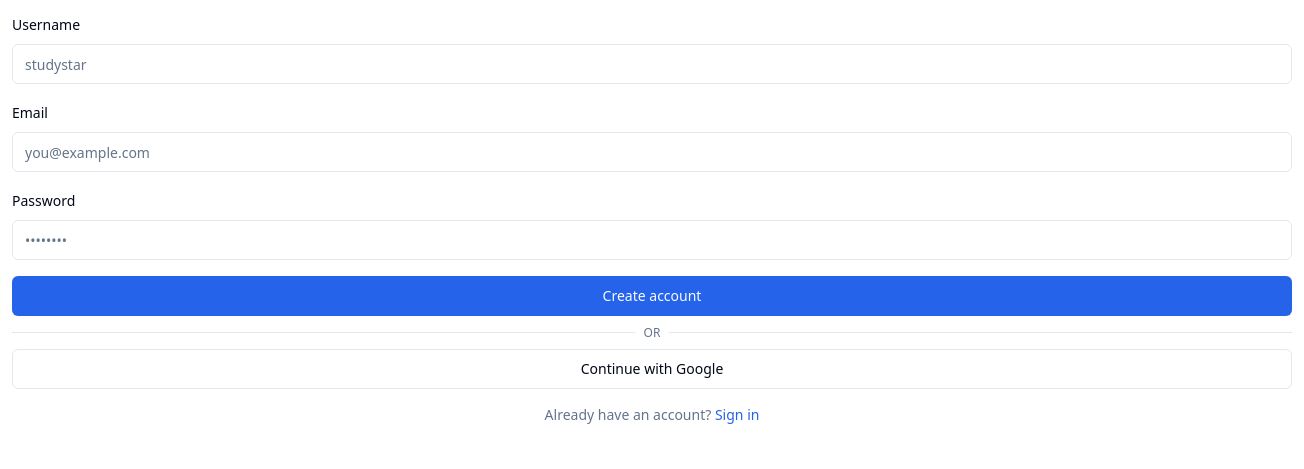
Test case: RegisterForm › shows error for password without digits
Type "validuser" into the field with placeholder "studystar" at x=652, y=64, box [12, 44, 1292, 84]
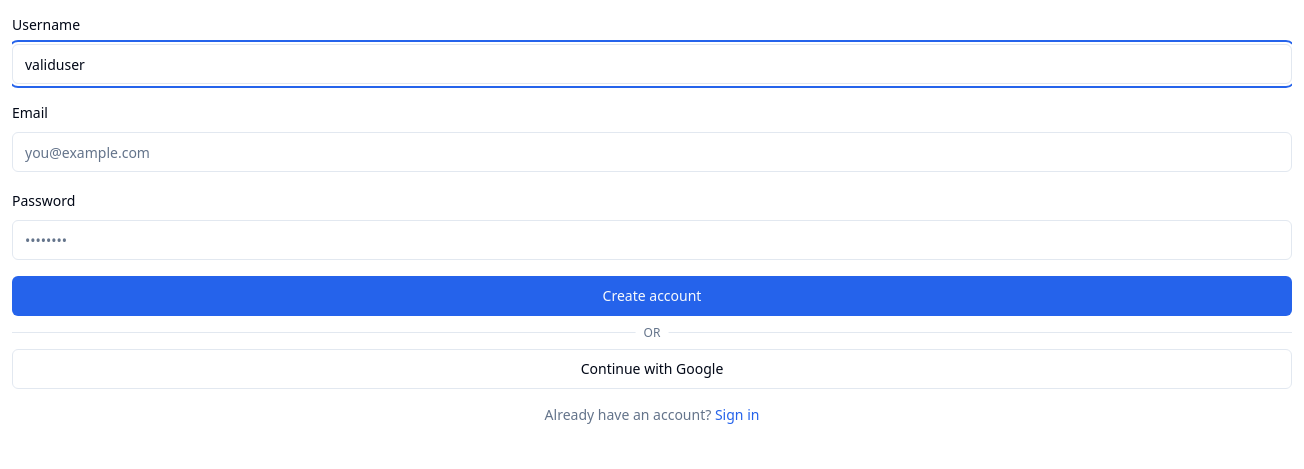
Type "test@example.com" into the field with placeholder "you@example.com" at x=652, y=152, box [12, 132, 1292, 172]
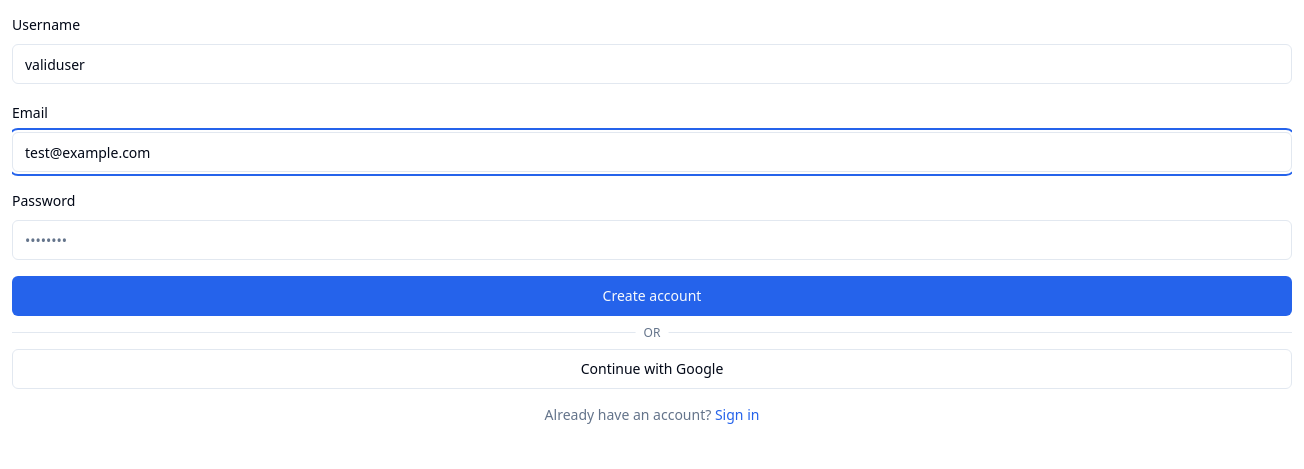
Type "NoDigitsHere" into the password field with placeholder "••••••••" at x=652, y=240, box [12, 220, 1292, 260]
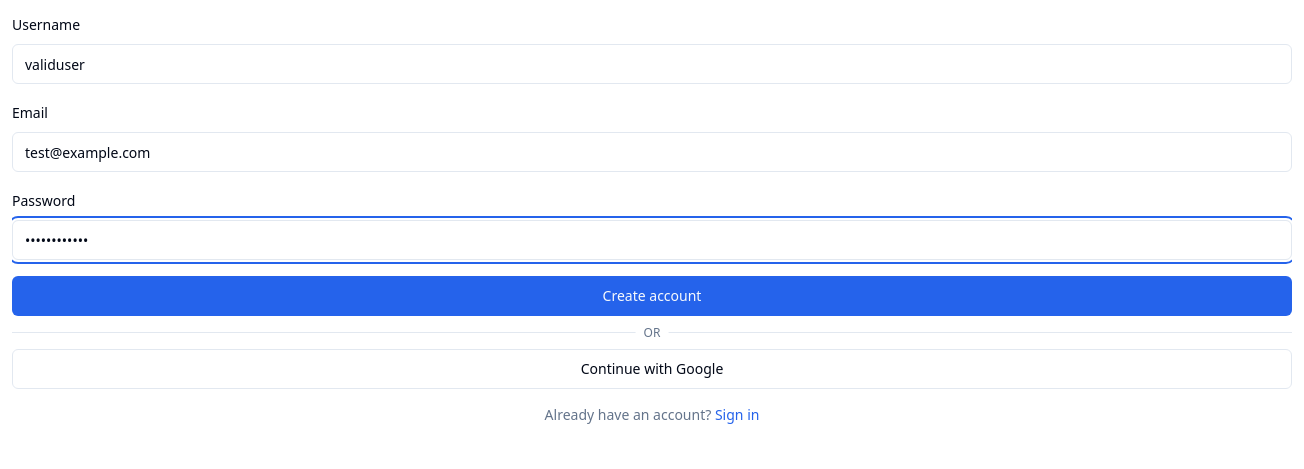
Click the button "Create account" at x=652, y=296, box [12, 276, 1292, 316]
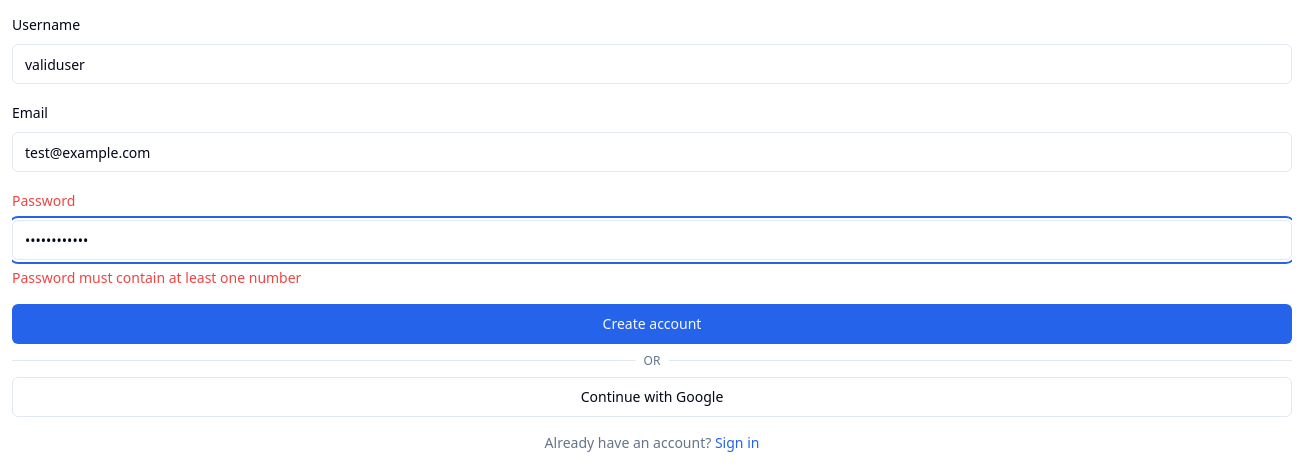
Result: the text "Password must contain at least one number" is shown at [12, 268, 301, 287]
